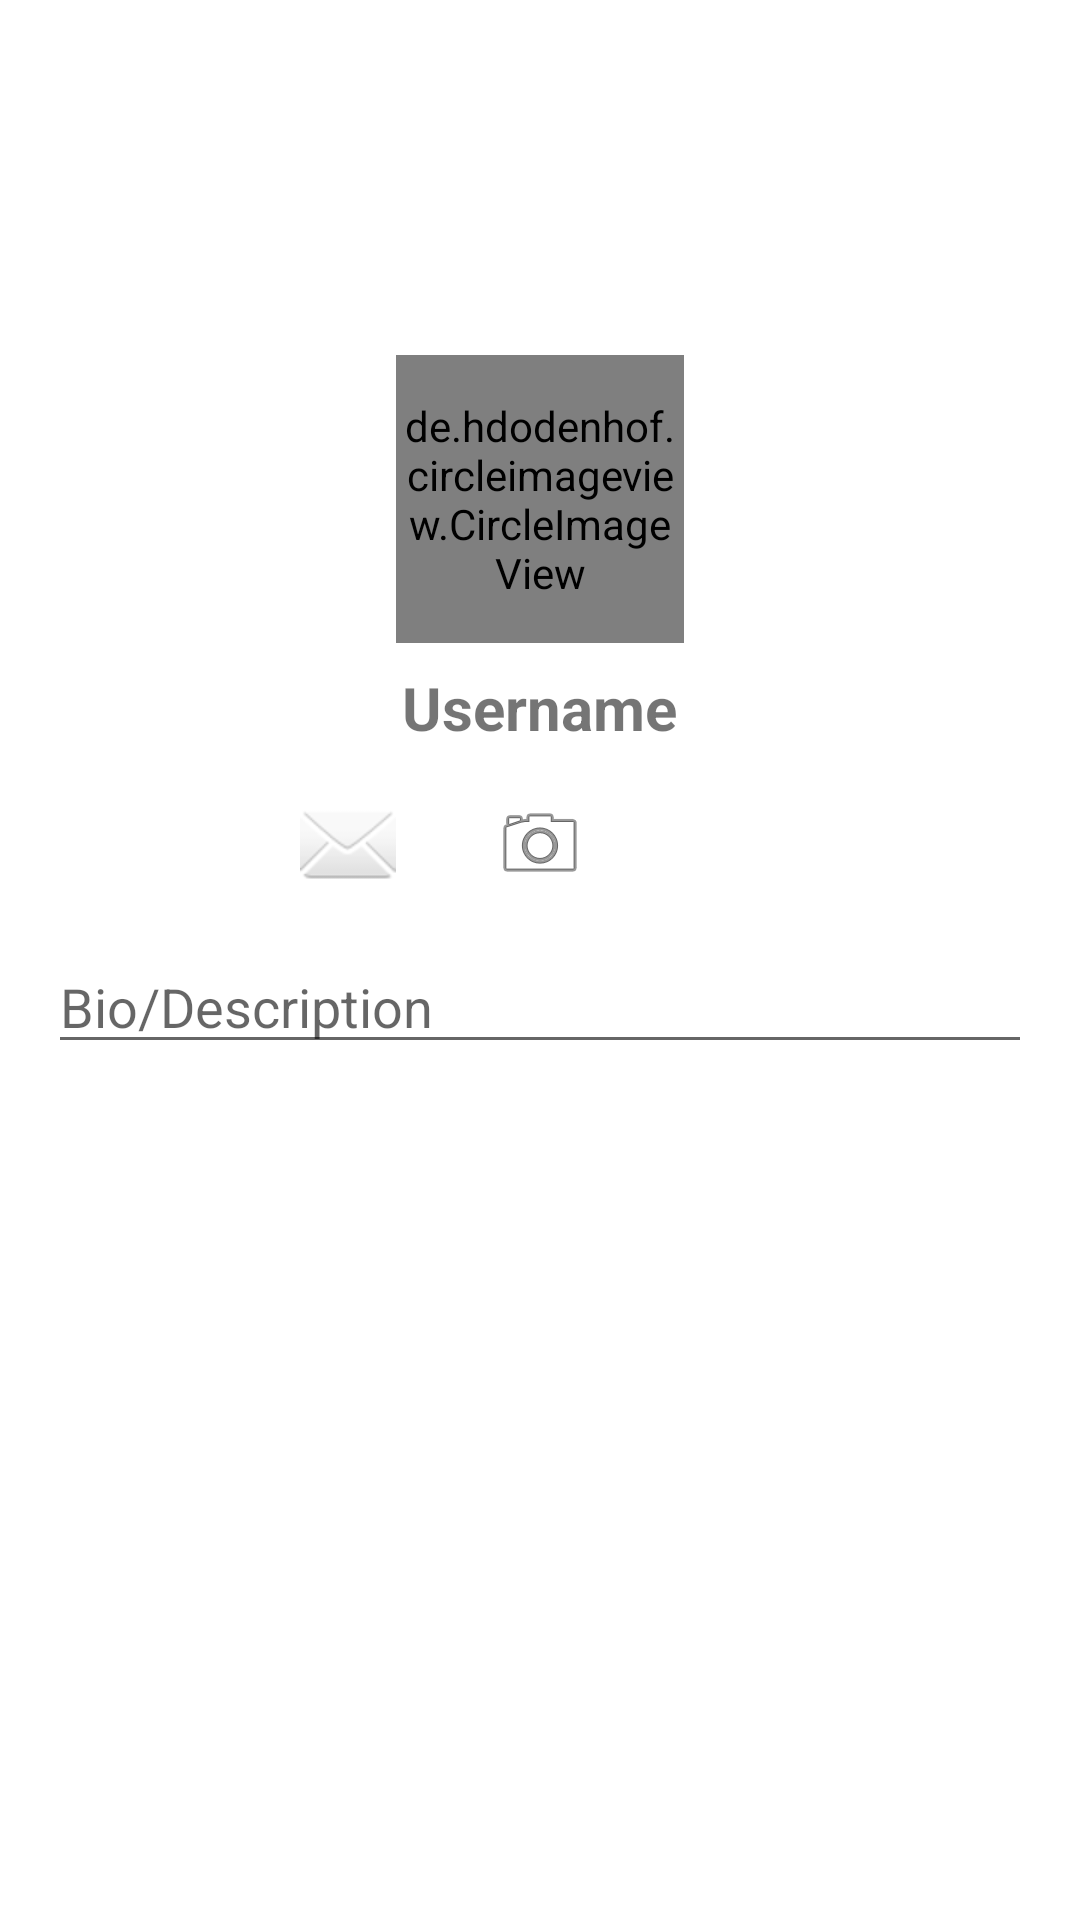

Named icons in this screenshot (1080x1920) and their centers, (x=x, y=y):
camera: (x=540, y=842)
email: (x=348, y=846)
